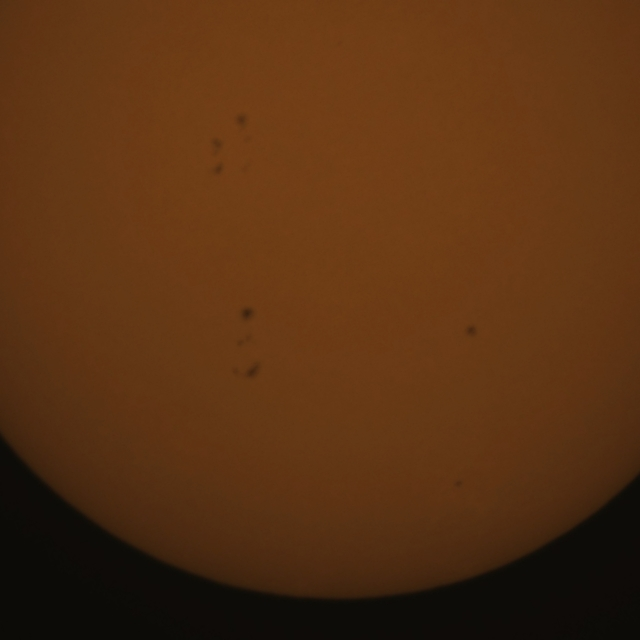sunspot: (235, 313, 256, 354), (208, 134, 227, 179), (233, 110, 252, 149), (230, 358, 262, 381), (238, 304, 257, 325), (232, 111, 250, 130), (235, 332, 253, 350), (212, 160, 226, 178), (464, 323, 478, 339), (452, 478, 464, 490)
